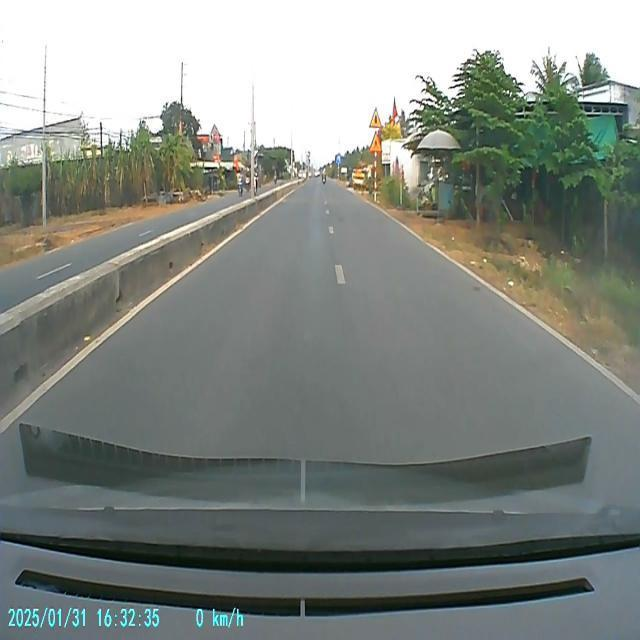207-giao-nhau-voi-duong-khong-uu-tien: (370, 106, 382, 128)
224-duong-nguoi-di-bo-cat-ngang: (369, 132, 382, 154)
